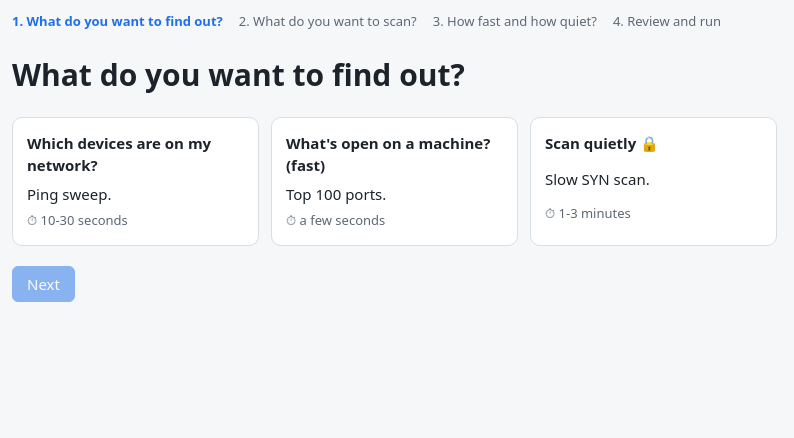
Test: speed defaults to the profile's timing
Click the radio button labelled "What's open on a machine? (fast)" at (394, 181), box x1=271 y1=117 x2=518 y2=246
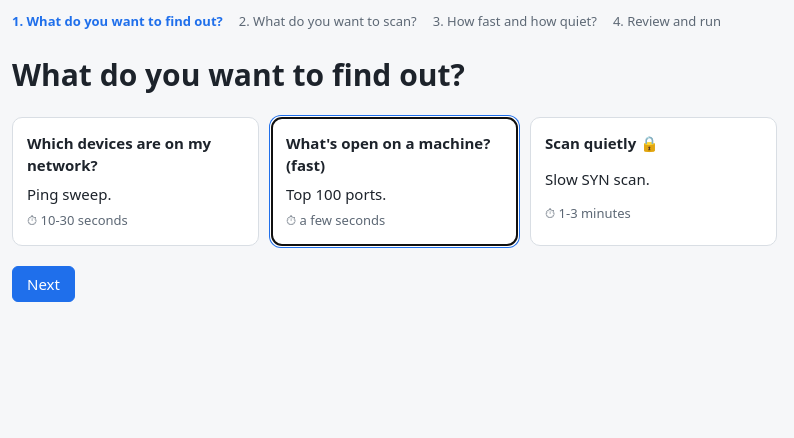
Now the button "Next" is enabled
Click the button "Next" at (43, 284), box x1=12 y1=266 x2=75 y2=302
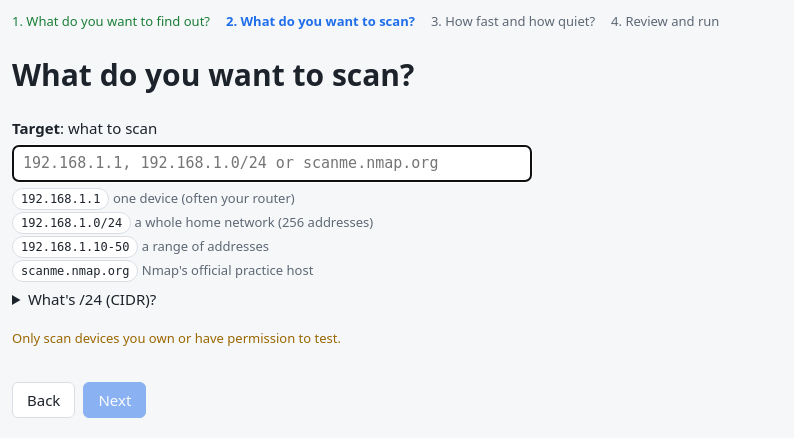
Type "10.0.0.1" into the field labelled "Target: what to scan" at (272, 163), box x1=12 y1=145 x2=532 y2=182
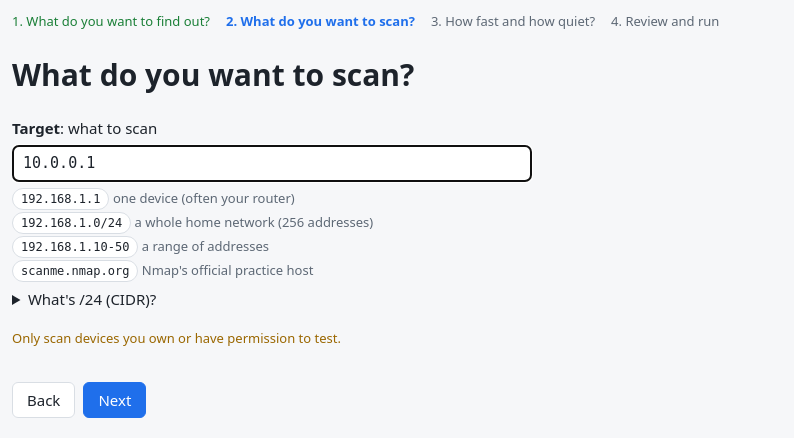
Now the button "Next" is enabled
Click the button "Next" at (115, 400), box x1=83 y1=382 x2=146 y2=418
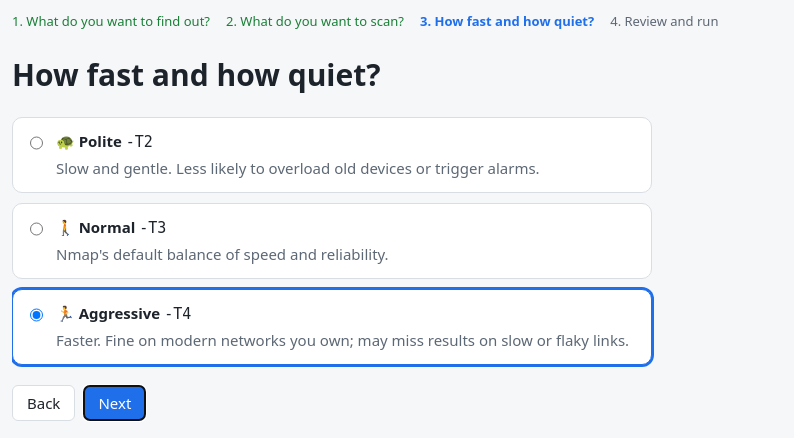
Now the radio button labelled "Aggressive" is checked, box x1=30 y1=305 x2=43 y2=325
